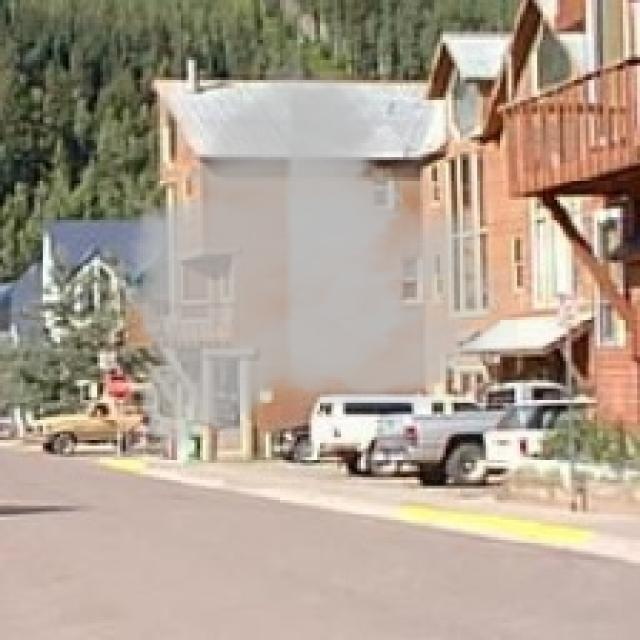smoke: (112, 49, 517, 472)
